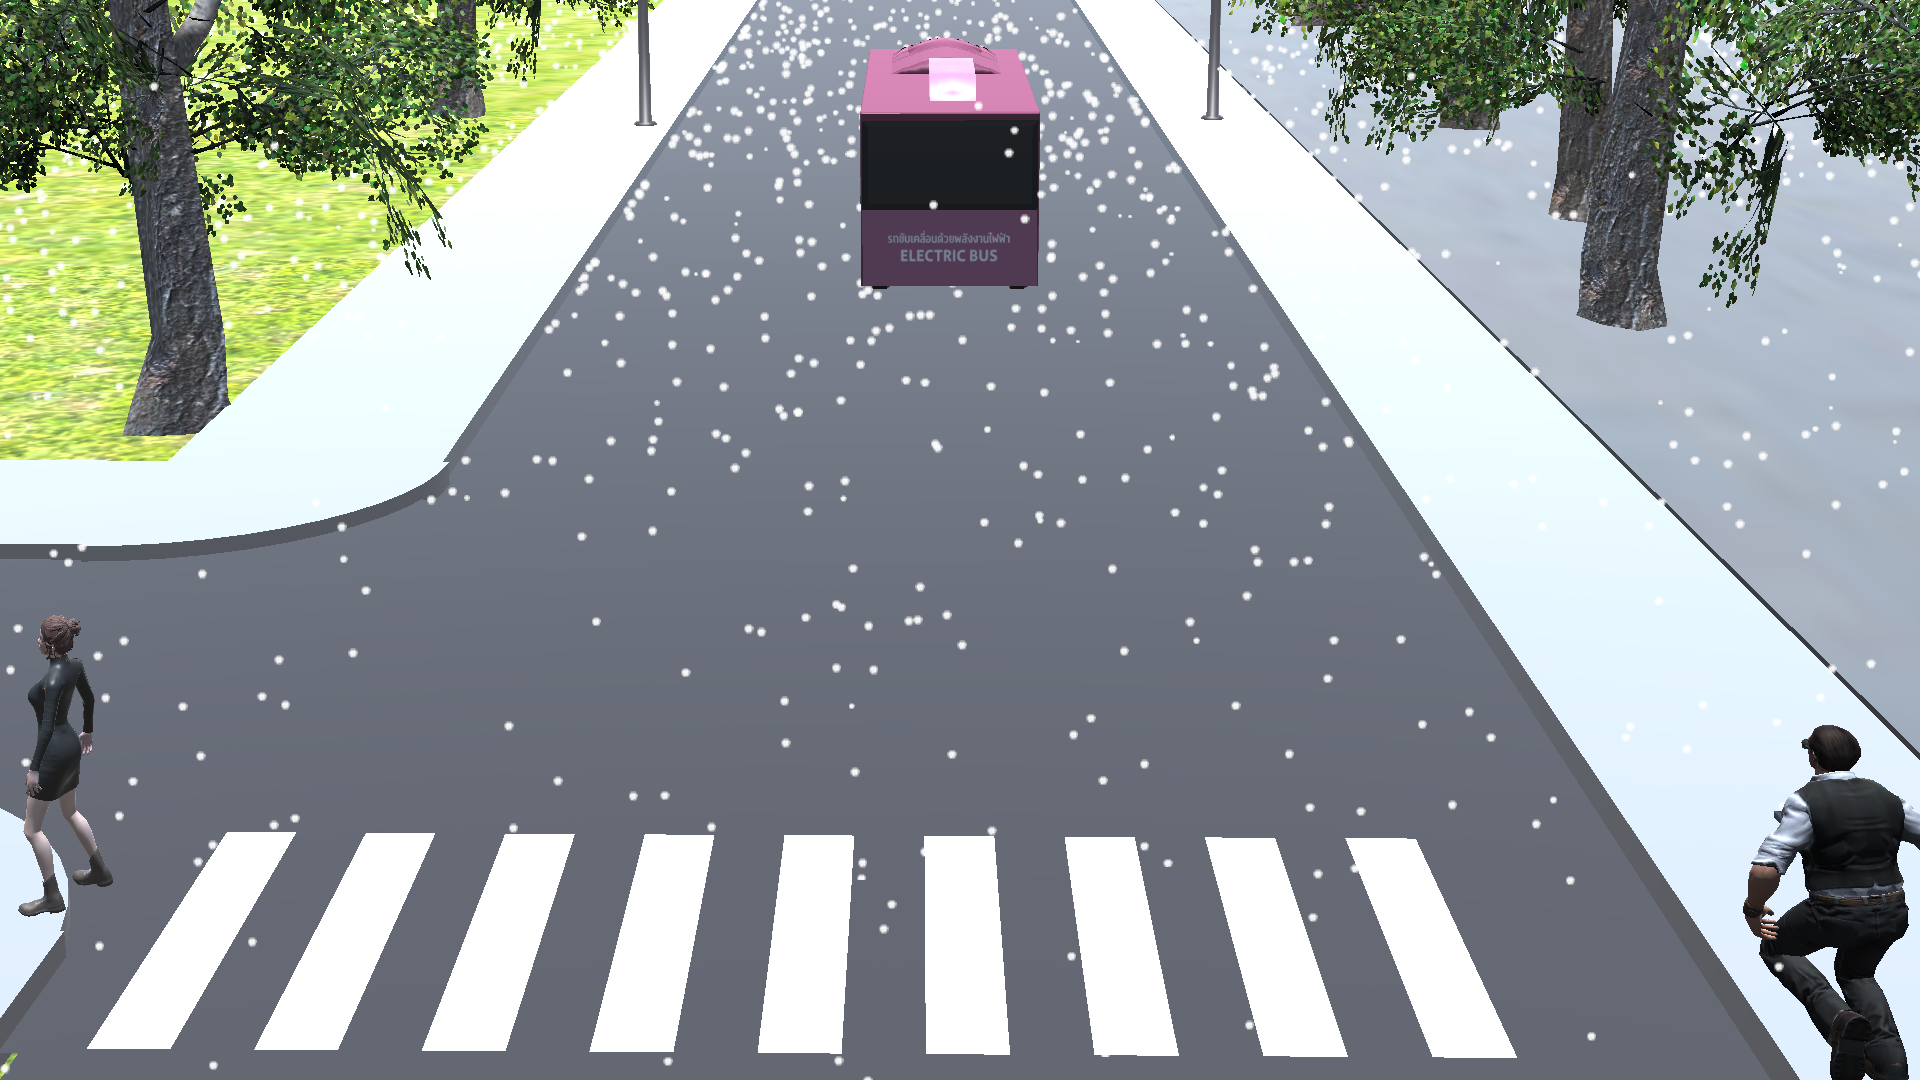pedestrian: (1733, 716, 1920, 1080), (10, 607, 125, 932)
